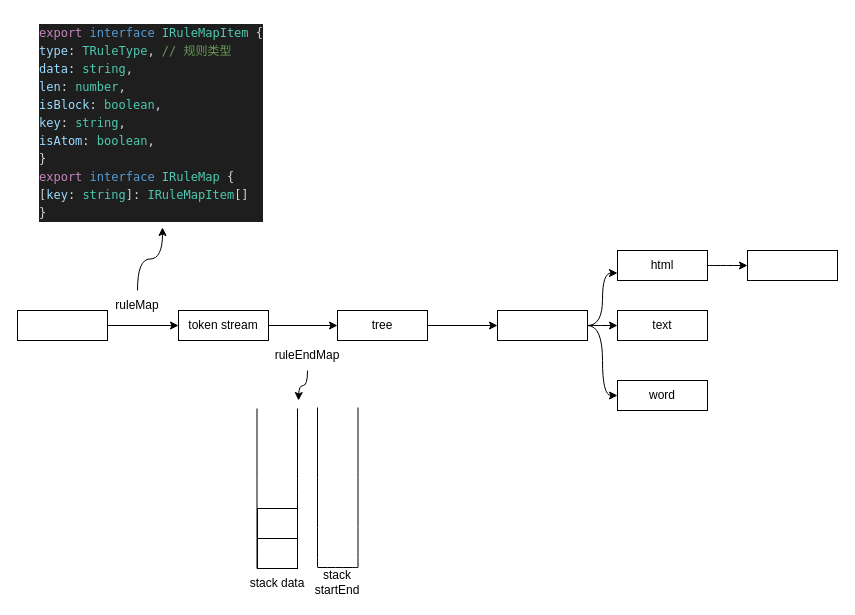
This 855x615 diagram has some shape labels left out. The centre of each missing label's shape, as x and y in pixels:
document: point 62,325
pdf: point 792,265
render: point 542,325
